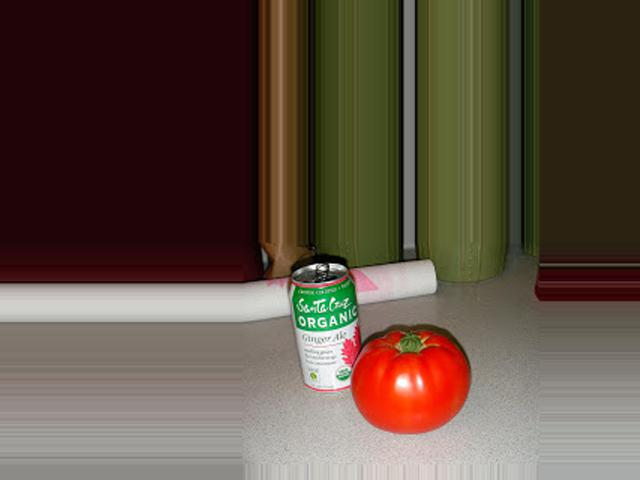tomato: (352, 331, 469, 433)
